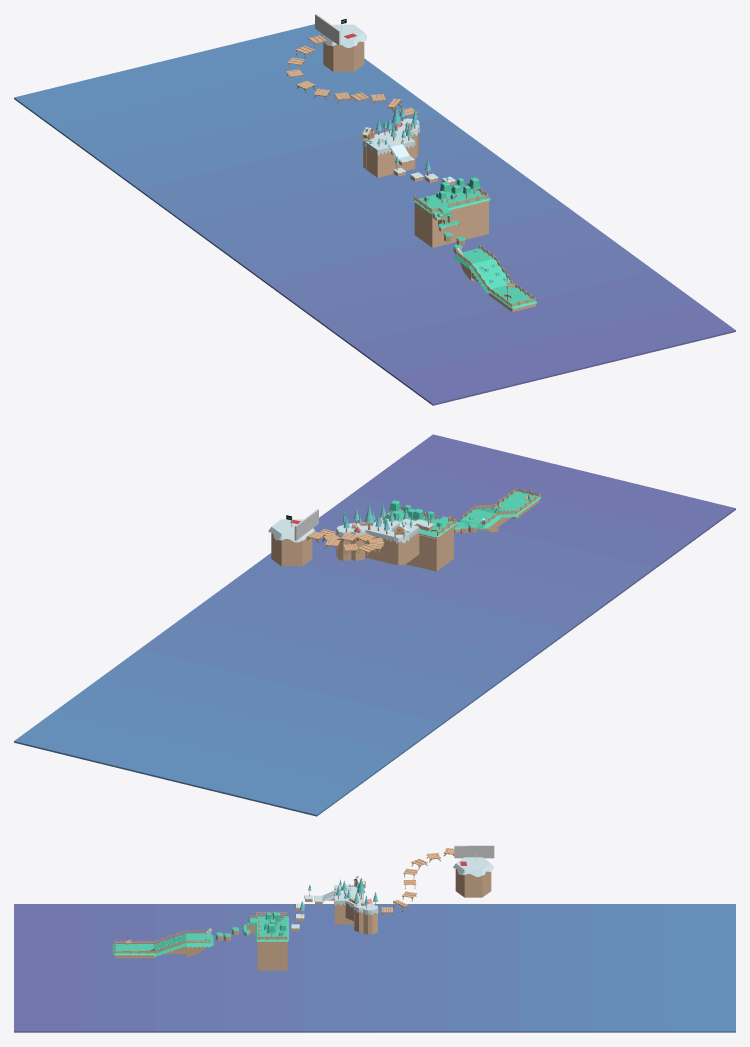
The model's file is envSetting.glb.
The picture shows the model from 3 angles, top to bottom: view 1: azimuth 30°, elevation 25°; view 2: azimuth 150°, elevation 25°; view 3: azimuth 270°, elevation 25°; orthographic projection. The views are drawn at different scales.
Visible parts, largest first — view 1: ground, blockDirt(Clone), blockSnowHexagon(Clone), blockSlope(Clone), blockLarge(Clone); view 2: ground, blockSnowHexagon(Clone), blockDirt(Clone), blockLarge(Clone); view 3: ground, blockSnowHexagon(Clone), blockDirt(Clone), blockLarge(Clone), destinationTrigger, blockCliff(Clone), blockSlope(Clone), blockLarge(Clone).006.
Part boxes in pixels (x1,y1,x2,y2): ground: [14, 24, 735, 405]; blockDirt(Clone): [414, 202, 488, 247]; blockSnowHexagon(Clone): [321, 24, 366, 71]; blockSlope(Clone): [469, 258, 510, 293]; blockLarge(Clone): [487, 284, 536, 311]; ground: [14, 434, 735, 816]; blockSnowHexagon(Clone): [268, 519, 314, 566]; blockDirt(Clone): [406, 528, 453, 571]; blockLarge(Clone): [494, 491, 540, 518]; ground: [14, 904, 735, 1032]; blockSnowHexagon(Clone): [453, 857, 493, 897]; blockDirt(Clone): [257, 941, 287, 970]; blockLarge(Clone): [112, 944, 155, 958]; destinationTrigger: [454, 845, 494, 858]; blockCliff(Clone): [186, 933, 214, 957]; blockSlope(Clone): [152, 933, 186, 956]; blockLarge(Clone).006: [255, 928, 288, 944].
Size of the model in its own units: 394 by 184 by 945.
Materials: 311 (2 with a texture image).
